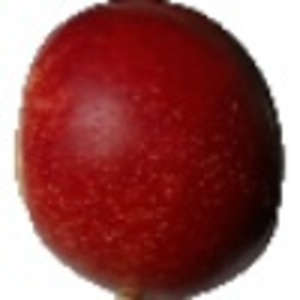nectarina: (12, 1, 286, 300)
